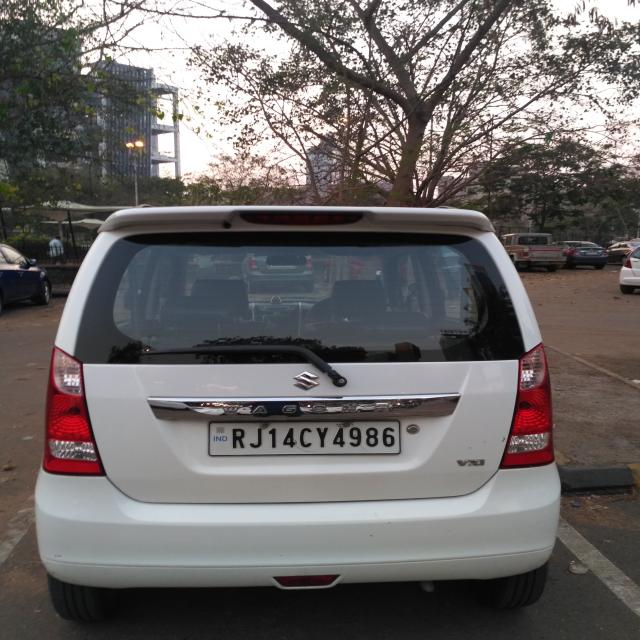Number-Plate: (214, 420, 404, 454)
